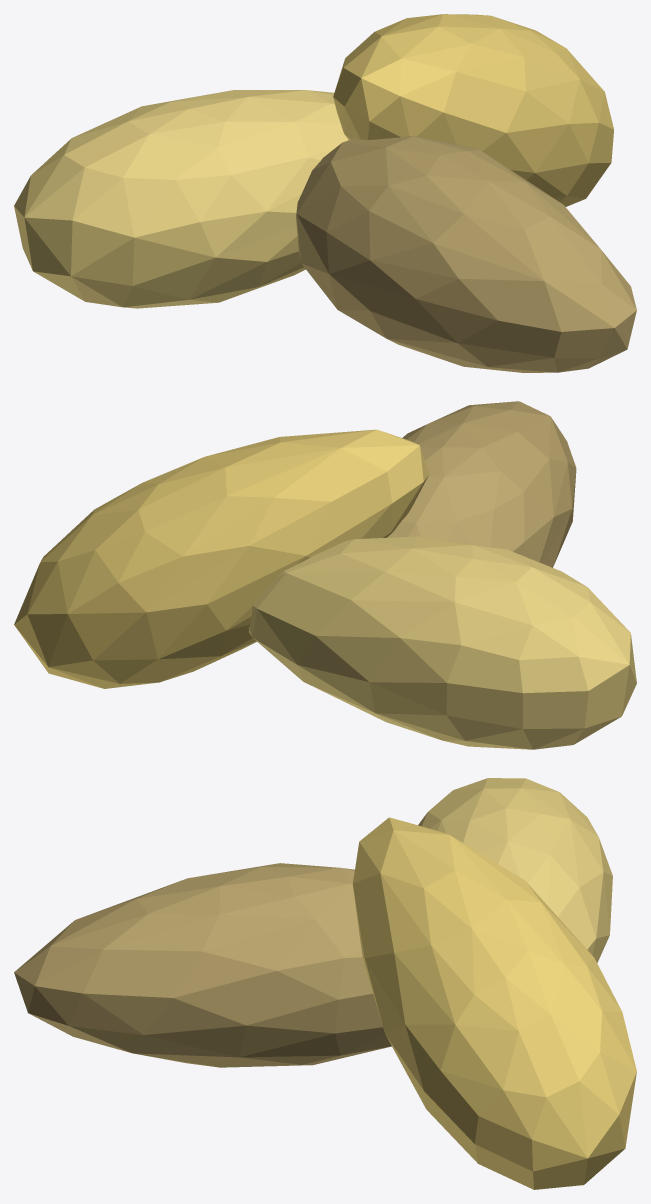
The model's file is SabaBananas.glb.
The picture shows the model from 3 angles, top to bottom: view 1: azimuth 30°, elevation 25°; view 2: azimuth 150°, elevation 25°; view 3: azimuth 270°, elevation 25°; orthographic projection. The views are drawn at different scales.
Parts seen in each view (by area): view 1: Sphere.001, Sphere, Sphere.002; view 2: Sphere, Sphere.002, Sphere.001; view 3: Sphere.002, Sphere.001, Sphere.
Part boxes in pixels (left/top/right/bottom): Sphere.001: left=296, top=136, right=636, bottom=372; Sphere: left=14, top=90, right=348, bottom=308; Sphere.002: left=333, top=14, right=613, bottom=206; Sphere: left=248, top=536, right=636, bottom=749; Sphere.002: left=14, top=429, right=429, bottom=688; Sphere.001: left=387, top=401, right=576, bottom=567; Sphere.002: left=353, top=817, right=636, bottom=1189; Sphere.001: left=14, top=863, right=391, bottom=1067; Sphere: left=418, top=778, right=612, bottom=962.
Size of the model in its own units: 1.15 by 0.4666 by 1.05.
